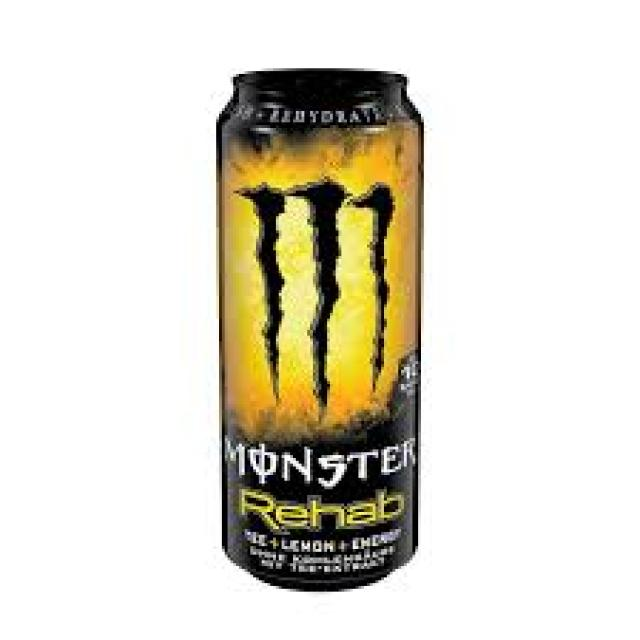Cans: (204, 54, 433, 594)
